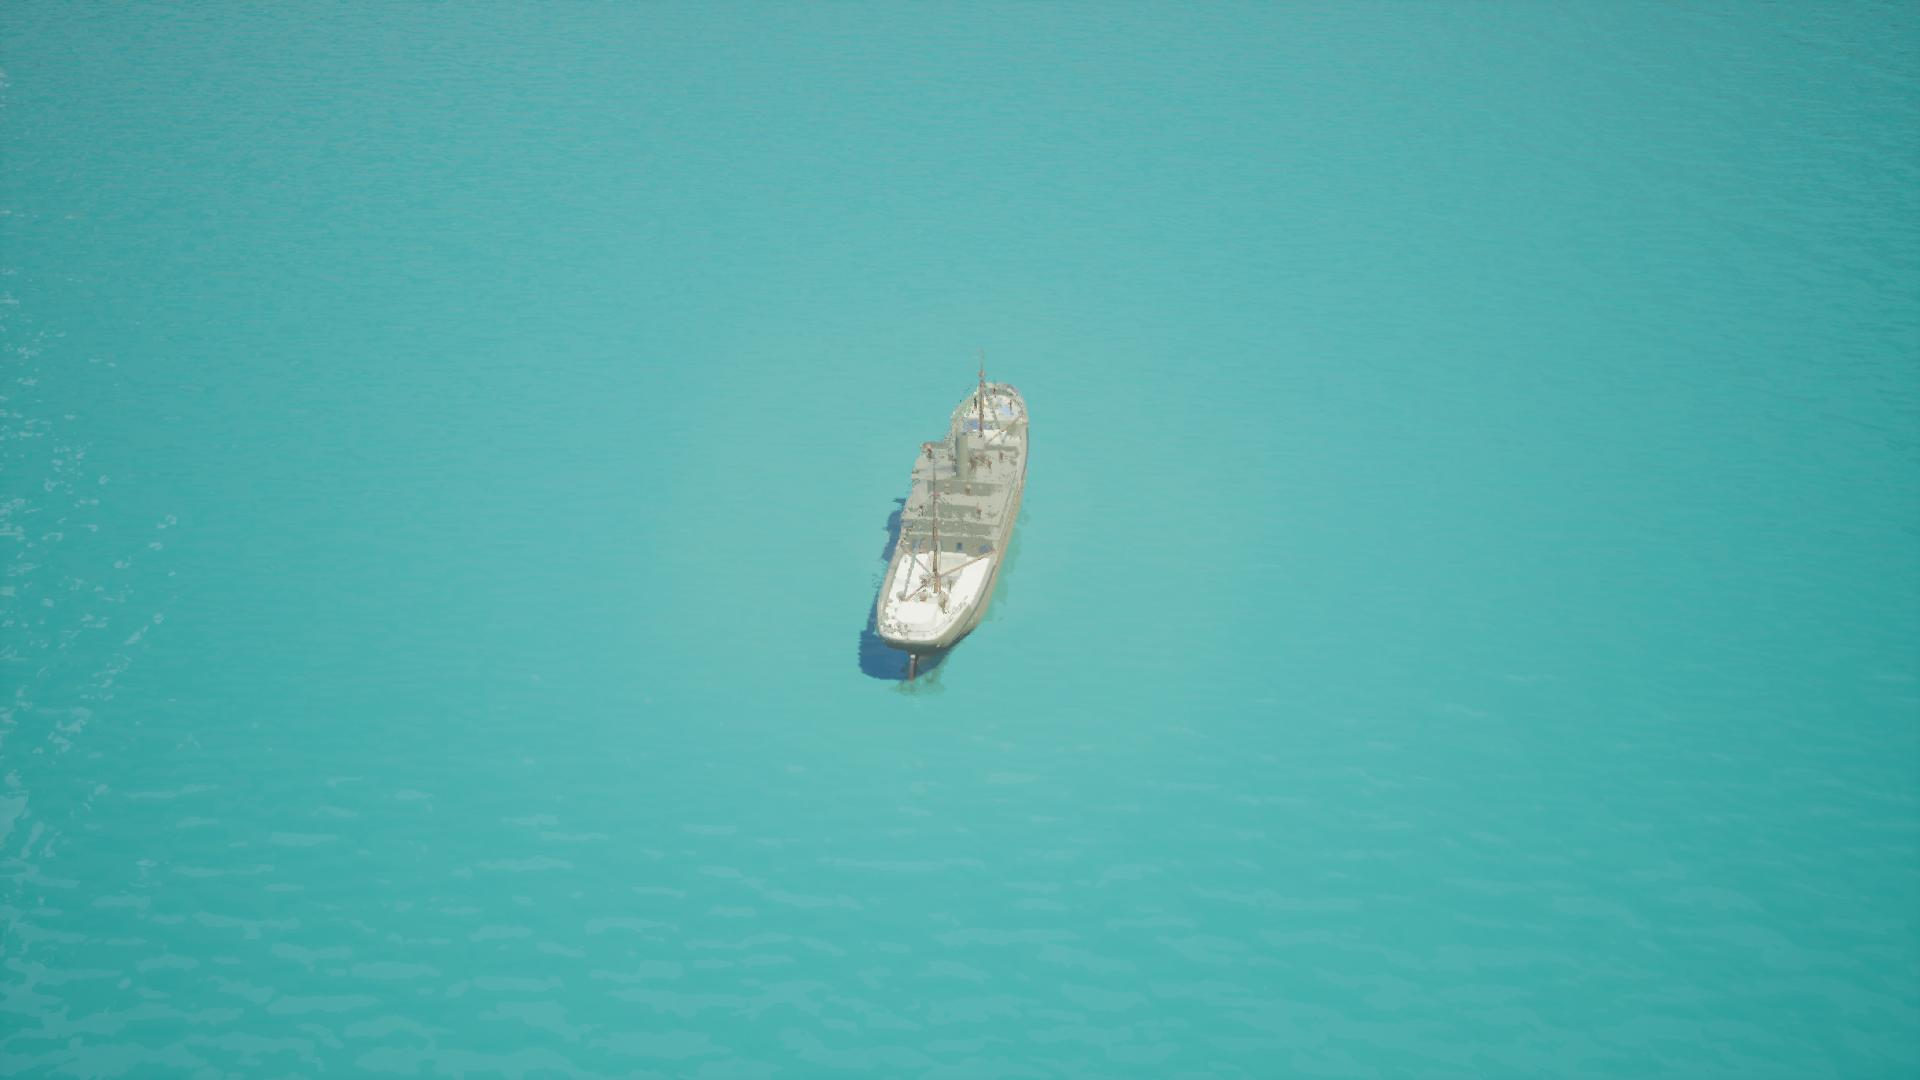Fishing Boat: (868, 356, 1038, 695)
